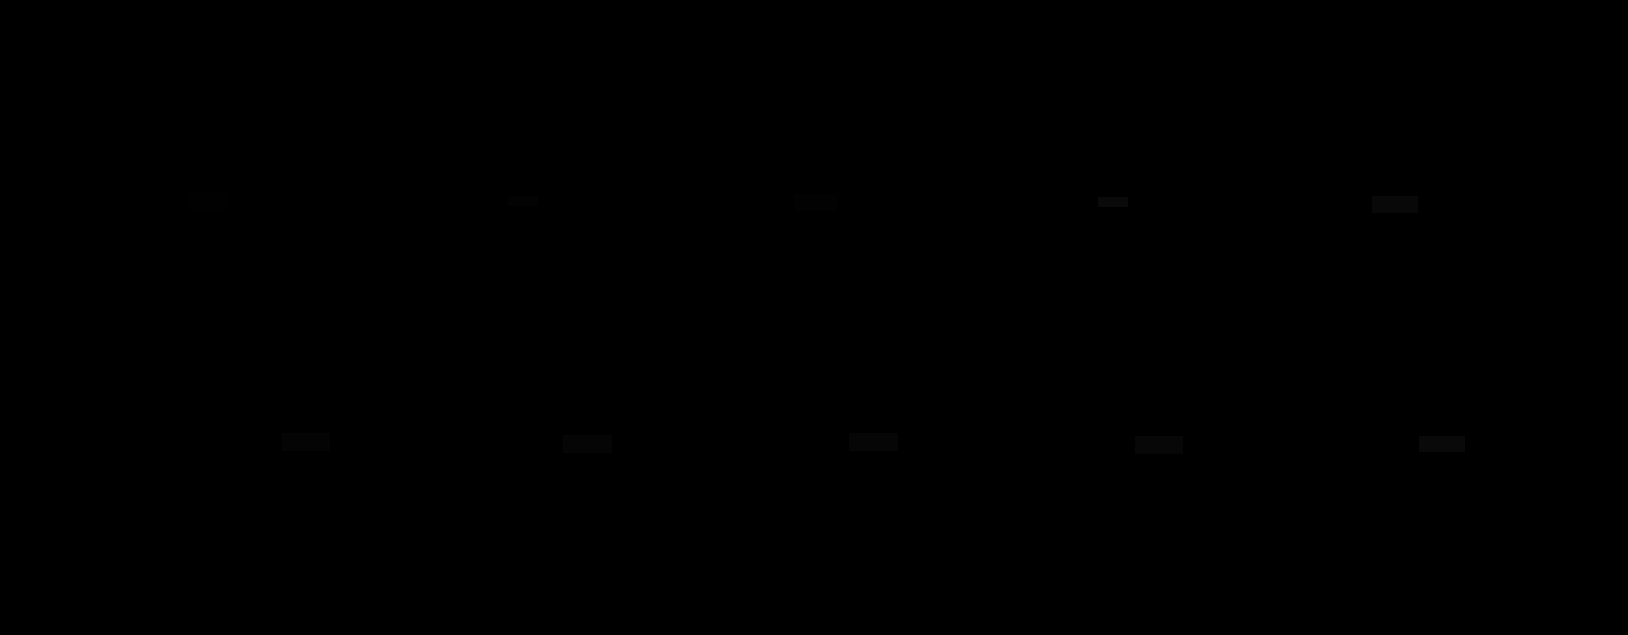light: (563, 435, 612, 453), (849, 433, 898, 451), (282, 433, 330, 451), (1135, 436, 1183, 454), (1372, 196, 1418, 213), (1419, 436, 1465, 452), (187, 193, 230, 210), (794, 194, 837, 211), (508, 196, 538, 206), (1098, 197, 1128, 208)
